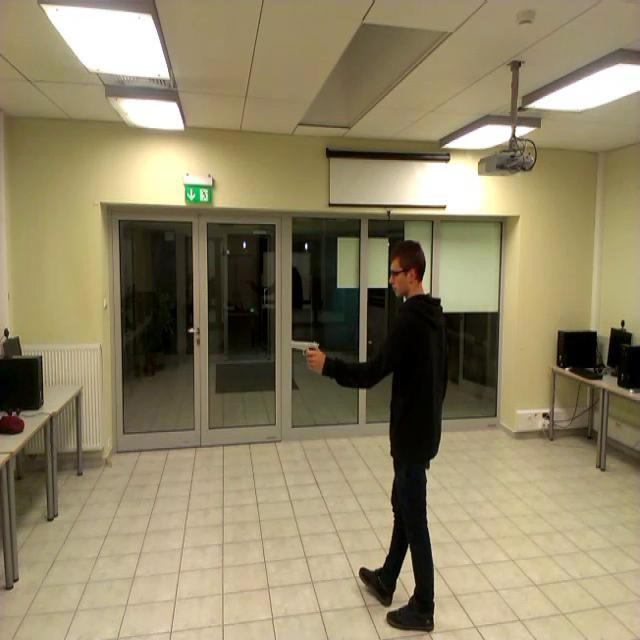weapon: (288, 338, 319, 372)
